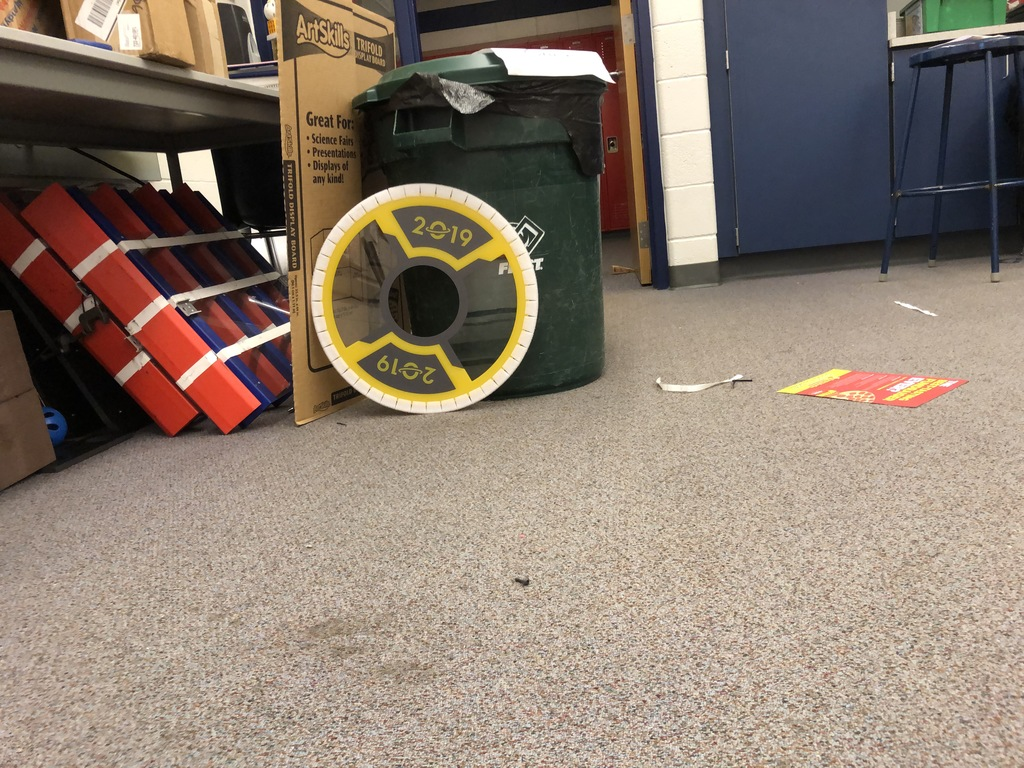hatch_panel: (313, 170, 556, 424)
